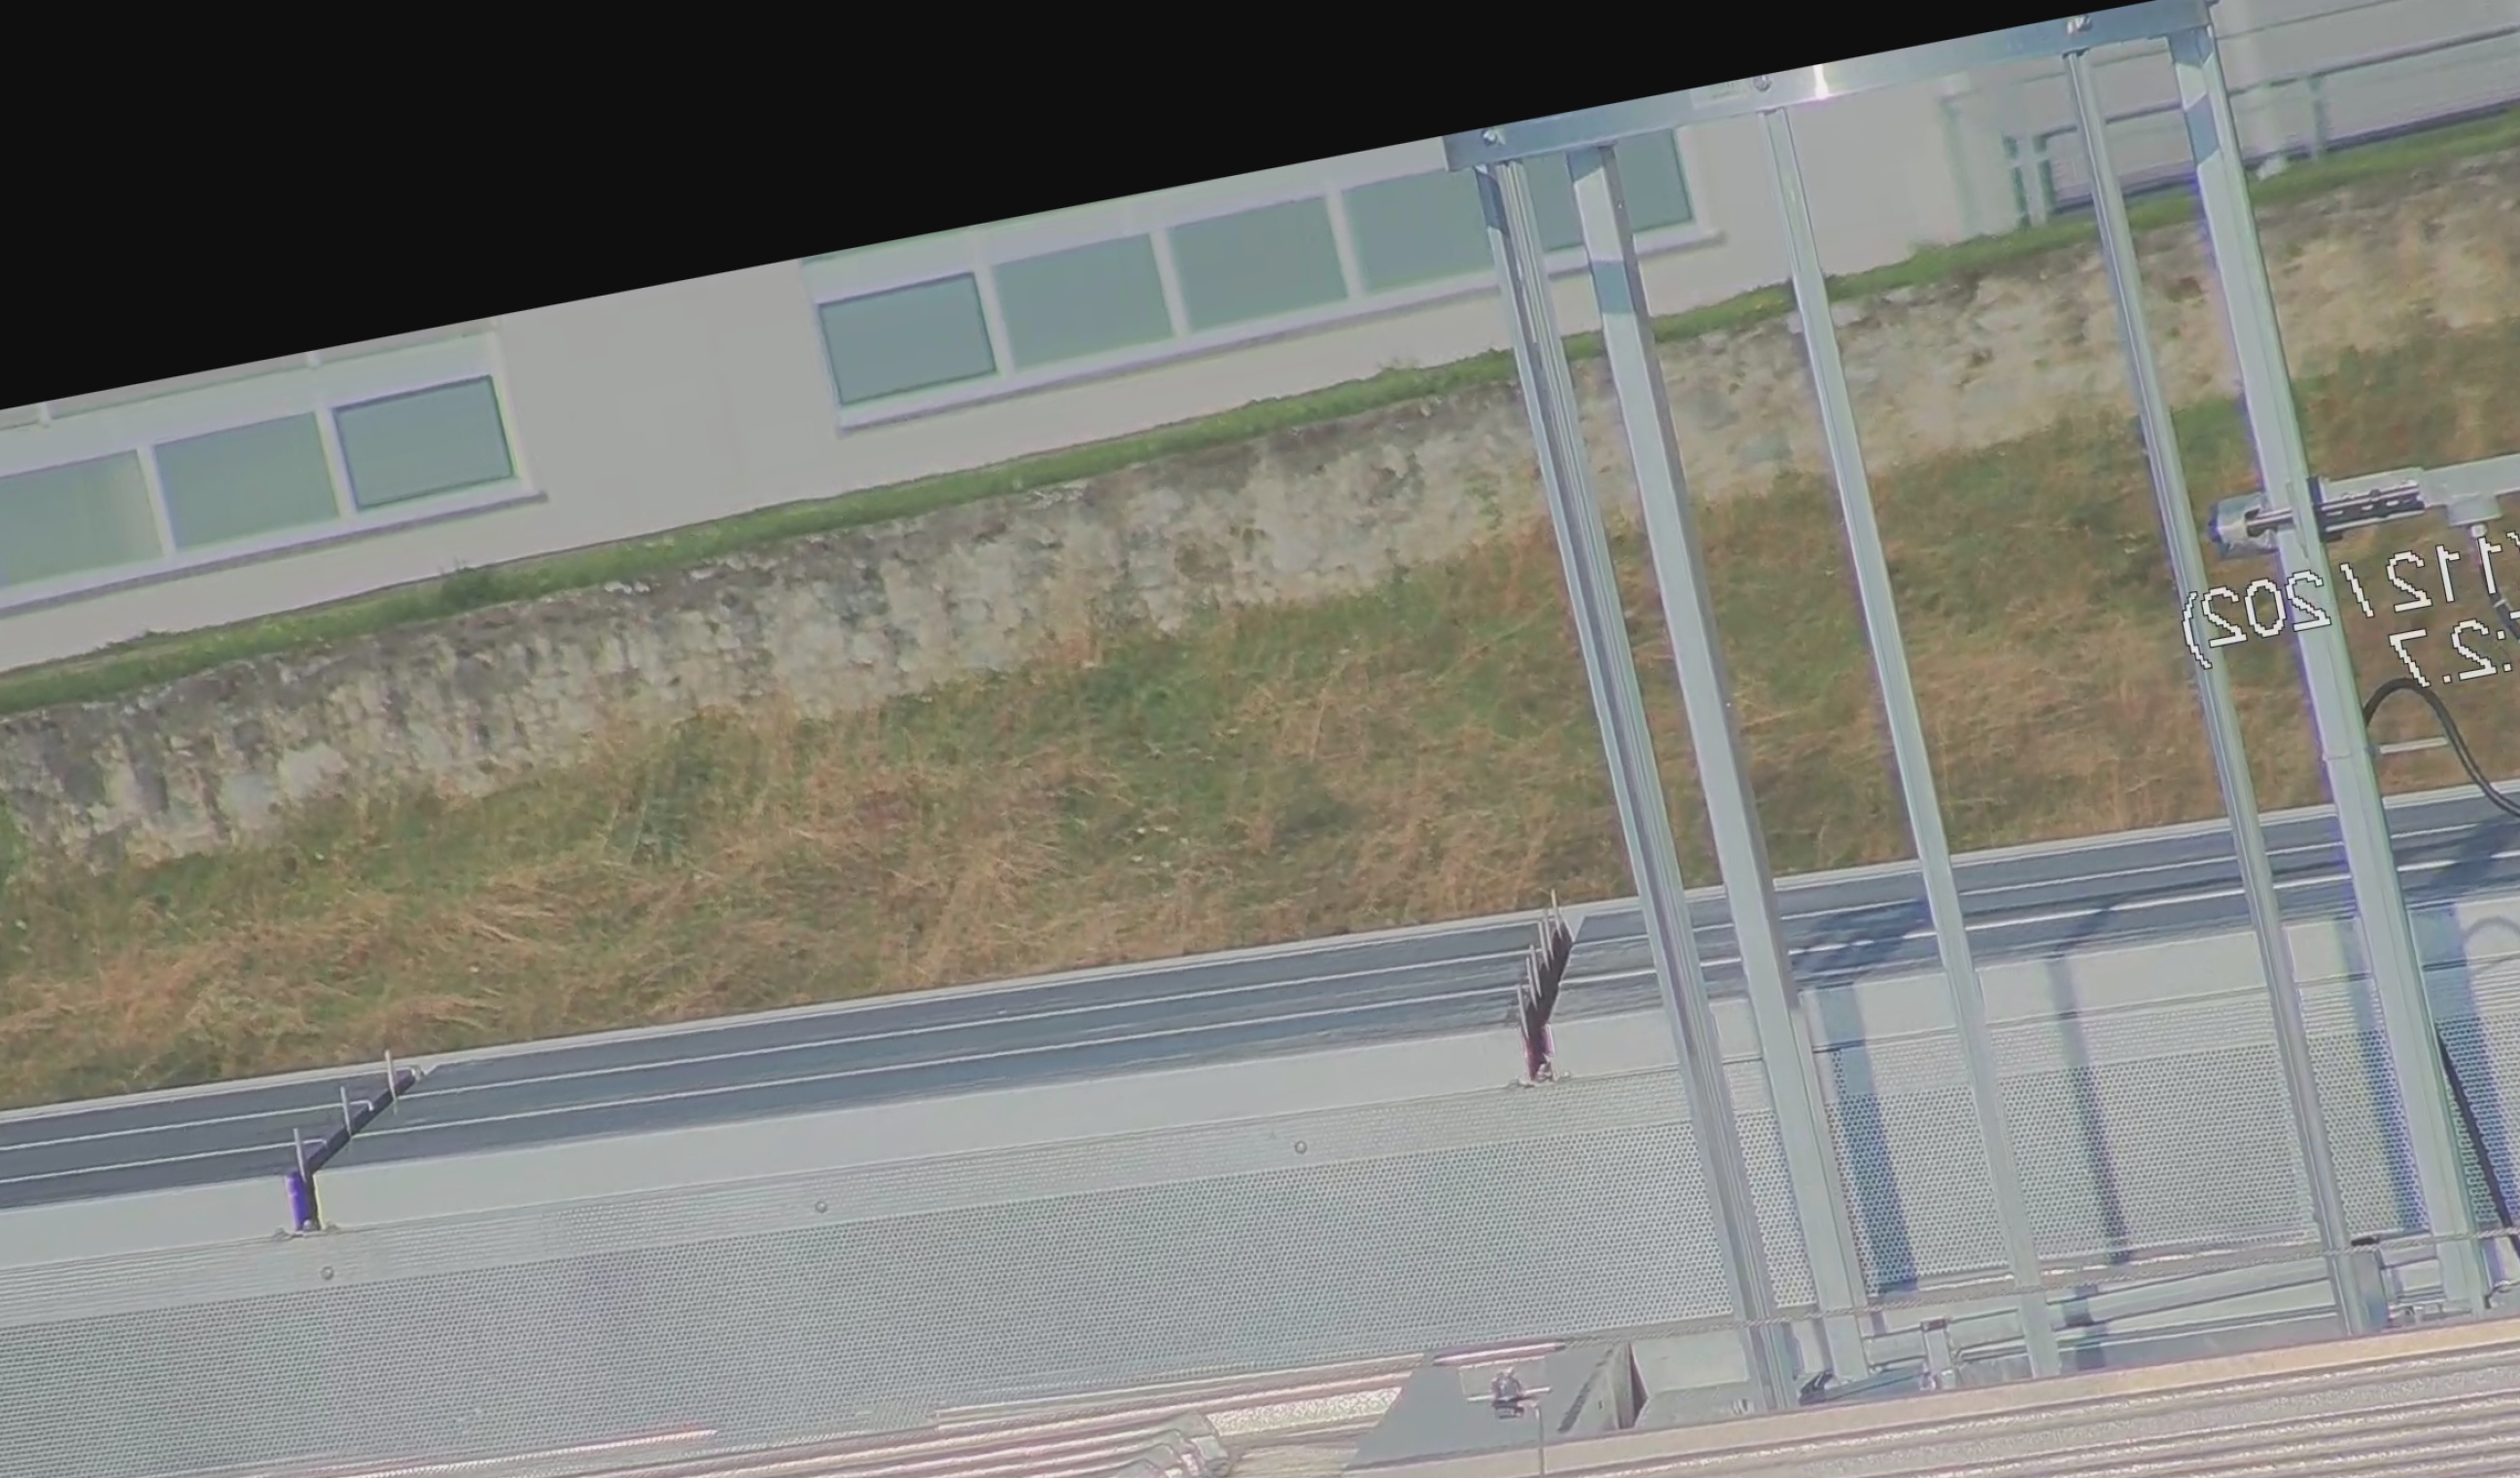Other: (1474, 871, 1628, 1100)
